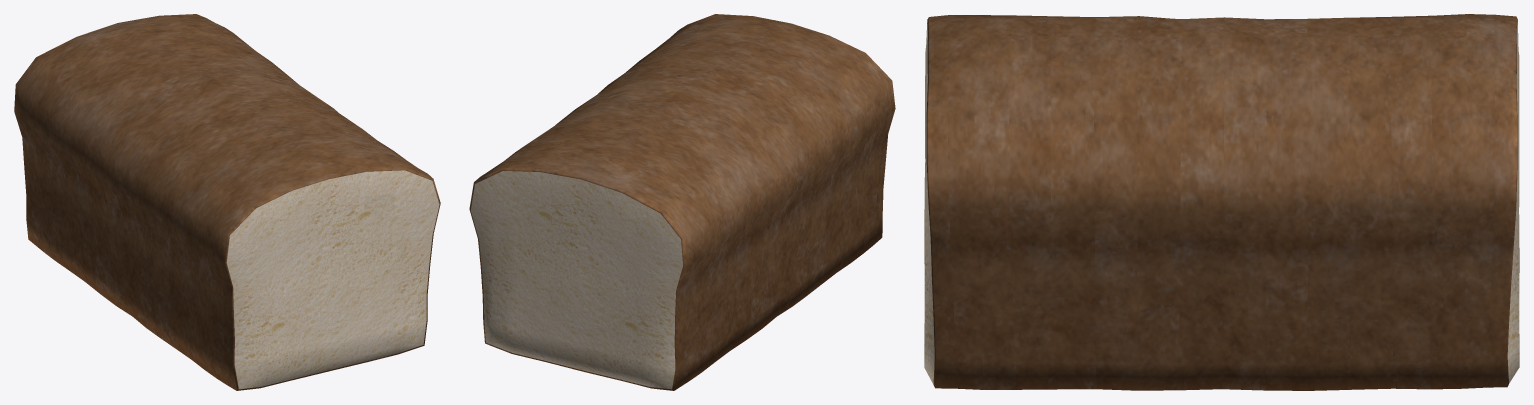
Rendered from Bread_30.obj.
3 renders of one model, left to right at view 1: azimuth 30°, elevation 25°; view 2: azimuth 150°, elevation 25°; view 3: azimuth 270°, elevation 25°, orthographic. The views are drawn at different scales.
Parts seen in each view (by area): view 1: whitebread_c_mesh; view 2: whitebread_c_mesh; view 3: whitebread_c_mesh.
Boxes of the visible parts, x1,y1,x2,y2 form: whitebread_c_mesh: (14, 14, 440, 390); whitebread_c_mesh: (469, 14, 895, 390); whitebread_c_mesh: (924, 14, 1519, 390).
Size of the model in its own units: 0.1812 by 0.161 by 0.2986.
